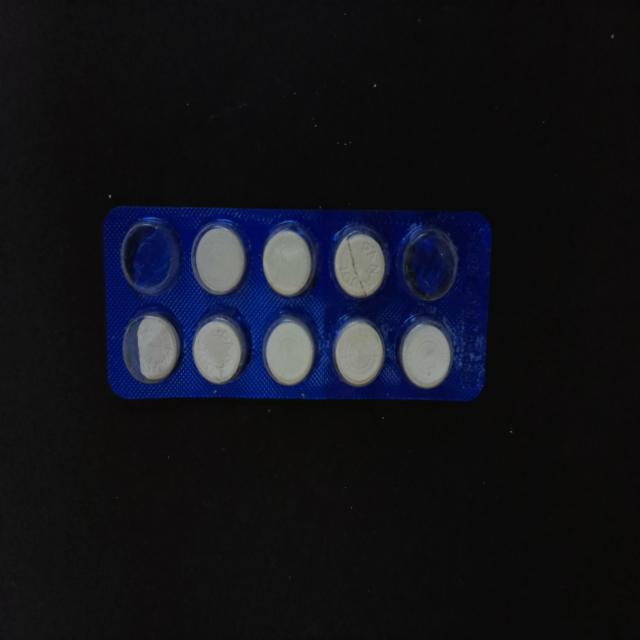defect: (118, 215, 183, 298), (398, 222, 462, 304), (119, 306, 184, 386), (328, 222, 391, 304)
